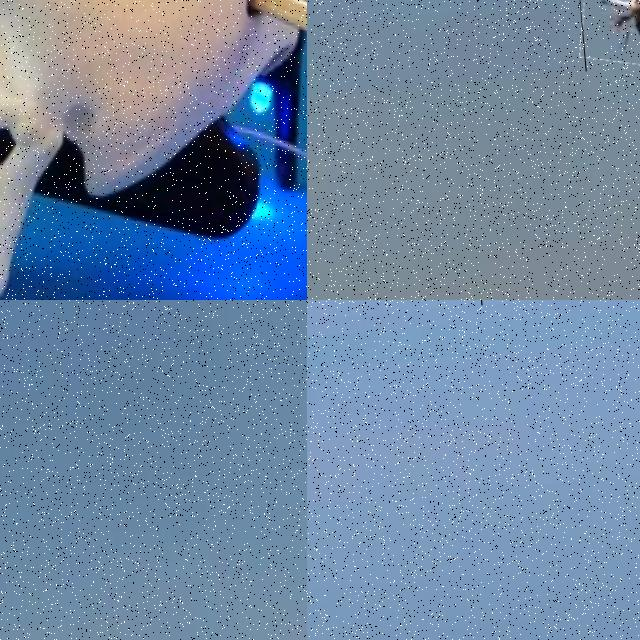0: (573, 0, 640, 71)
drone: (0, 0, 307, 300)
